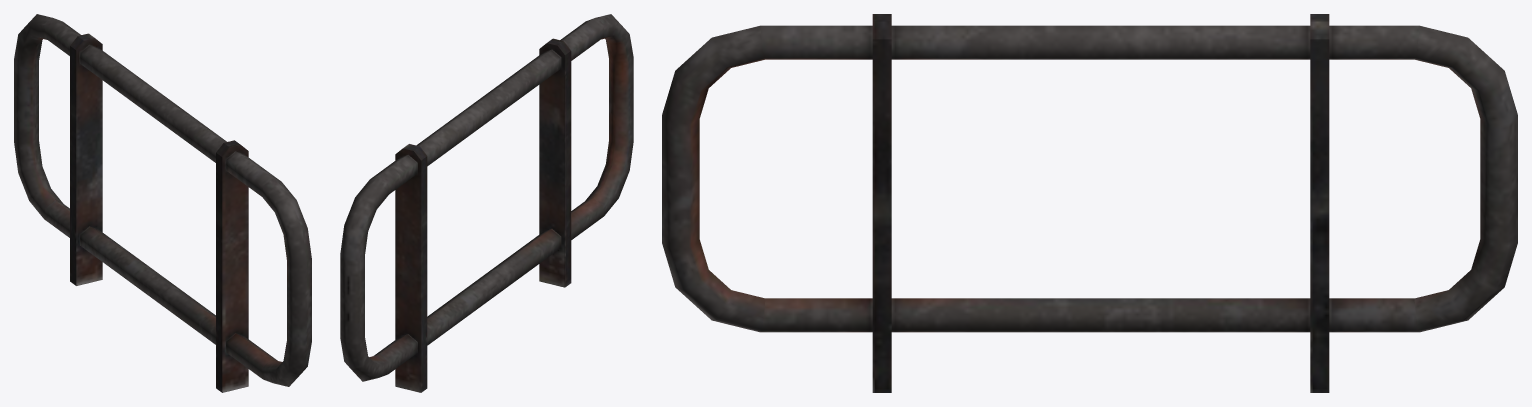
The model's file is Grill.FBX.
The picture shows the model from 3 angles, left to right: view 1: azimuth 30°, elevation 25°; view 2: azimuth 150°, elevation 25°; view 3: azimuth 270°, elevation 25°; orthographic projection. The views are drawn at different scales.
Parts seen in each view (by area): view 1: Grill; view 2: Grill; view 3: Grill.
Part boxes in pixels (x1=…): Grill: x1=14, y1=14, x2=311, y2=392; Grill: x1=340, y1=14, x2=633, y2=392; Grill: x1=662, y1=14, x2=1517, y2=392.
Size of the model in its own units: 3.8 by 33.86 by 71.88.
